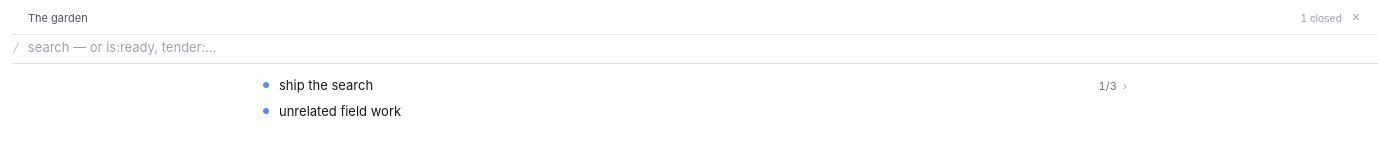
Test: GardenPanel search › the closed lens › writes itself into the query rather than keeping a flag beside it
What coordinates should you click on to do the following:
click the button "1 closed"
I would click on:
 (1321, 18)
Its box is [1301, 12, 1342, 24].
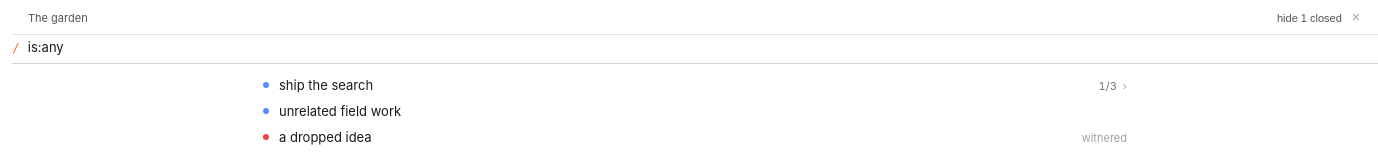
Result: the dropdown holds "is:any" at [28, 37, 1370, 57]
